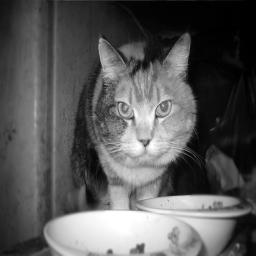catnose: (137, 138, 151, 146)
